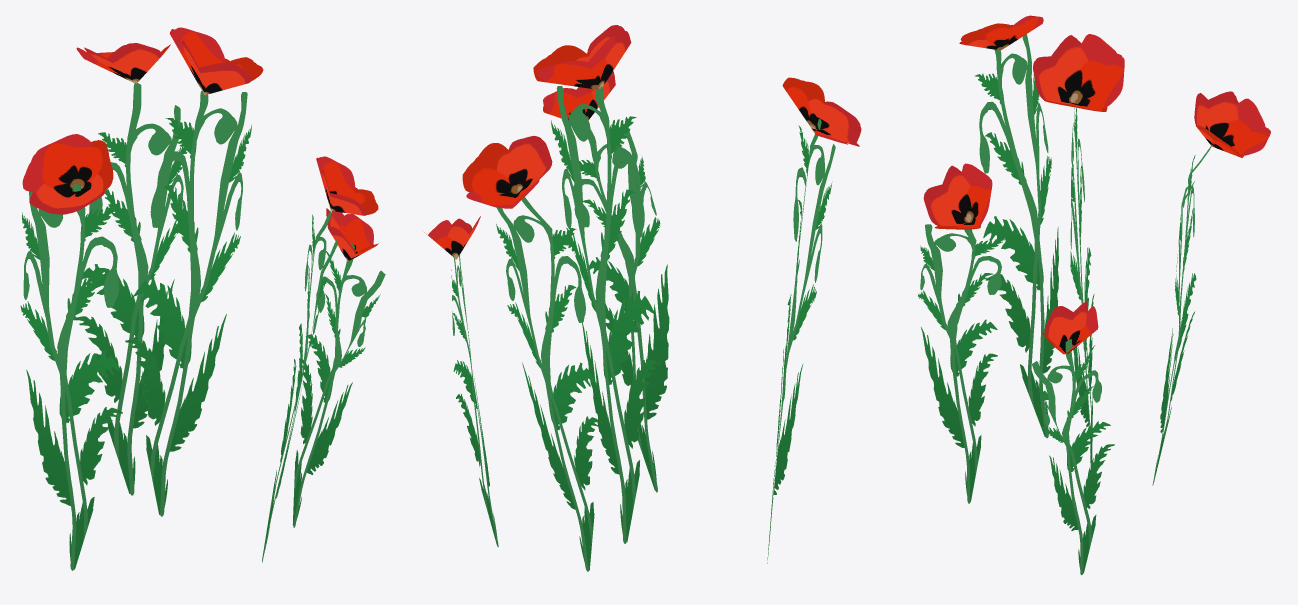
Rendered from flowers.fbx.
3 renders of one model, left to right at view 1: azimuth 30°, elevation 25°; view 2: azimuth 150°, elevation 25°; view 3: azimuth 270°, elevation 25°, orthographic. The views are drawn at different scales.
Visible parts, largest first — view 1: PT_Poppy_02_LOD0; view 2: PT_Poppy_02_LOD0; view 3: PT_Poppy_02_LOD0.
Part boxes in pixels (box(x1,y1,x2,y2)): PT_Poppy_02_LOD0: box(20, 27, 385, 570); PT_Poppy_02_LOD0: box(424, 25, 861, 571); PT_Poppy_02_LOD0: box(918, 15, 1270, 575).
Bounding box in the file's own units: 63.17 × 81.91 × 54.09.
